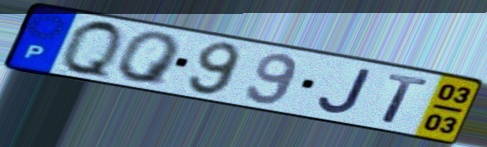9: (185, 40, 247, 98), (243, 51, 301, 106)
J: (315, 67, 375, 116)
Q: (59, 17, 126, 83), (115, 32, 184, 89)
T: (378, 72, 433, 126)
